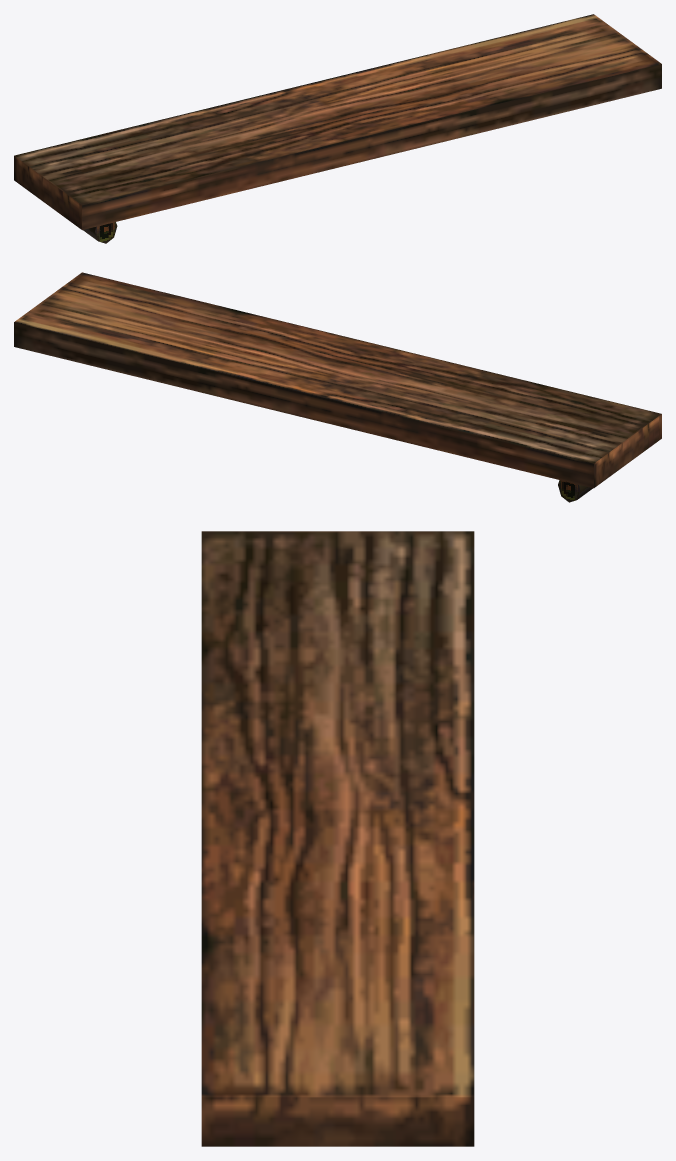
Rendered from INST_WH_PLANKAN_01.fbx.
3 renders of one model, top to bottom at view 1: azimuth 30°, elevation 25°; view 2: azimuth 150°, elevation 25°; view 3: azimuth 270°, elevation 25°, orthographic. The views are drawn at different scales.
Visible parts, largest first — view 1: INST_WH_PLANKAN_01; view 2: INST_WH_PLANKAN_01; view 3: INST_WH_PLANKAN_01.
Part boxes in pixels (left/top/right/bottom): INST_WH_PLANKAN_01: left=14, top=14, right=661, bottom=243; INST_WH_PLANKAN_01: left=14, top=272, right=661, bottom=502; INST_WH_PLANKAN_01: left=201, top=531, right=474, bottom=1146.
Bounding box in the file's own units: 49160 × 4010 × 10000.
Materials: 2 (2 with a texture image).
